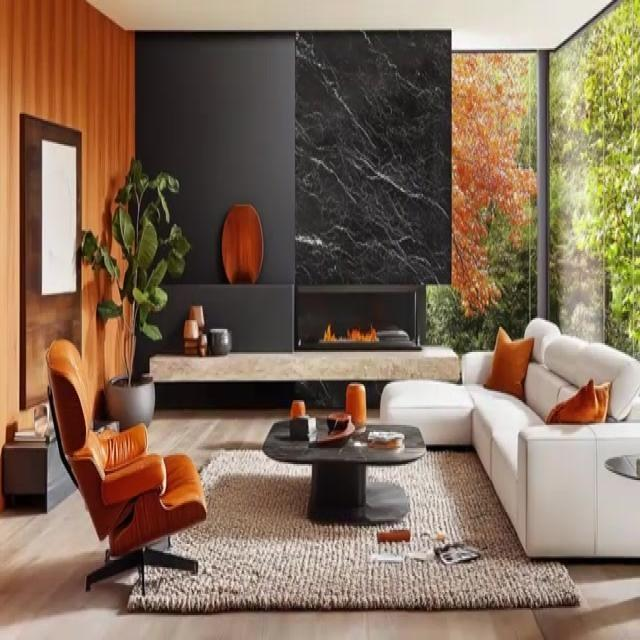obstacle: (380, 314, 640, 560), (45, 336, 207, 596), (261, 414, 426, 522)
